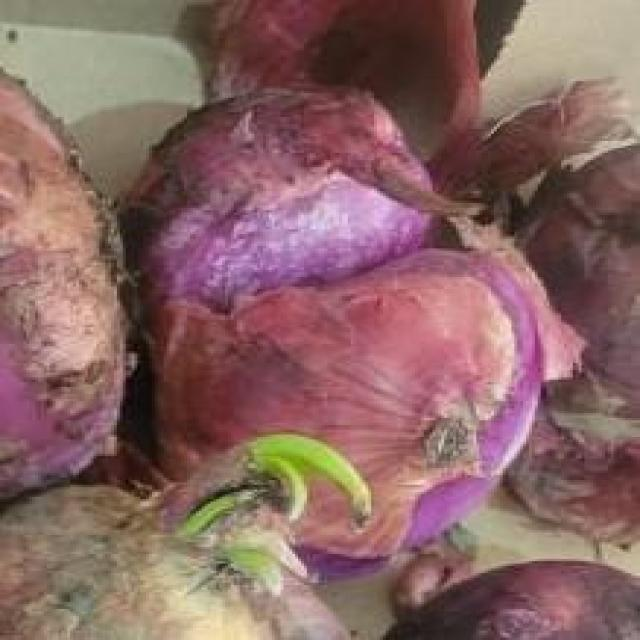Onion: (102, 79, 579, 578)
